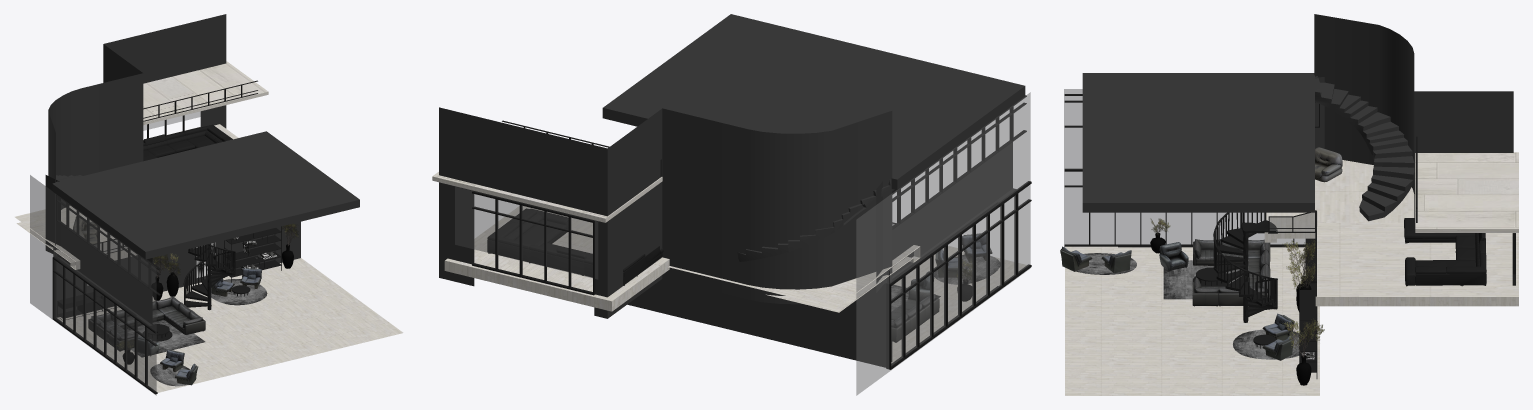
File: interior_4.glb
The picture shows the model from 3 angles, left to right: view 1: azimuth 30°, elevation 25°; view 2: azimuth 150°, elevation 25°; view 3: azimuth 270°, elevation 25°; orthographic projection. The views are drawn at different scales.
Parts seen in each view (by area): view 1: Cube.008, Plane, Plane.026, Plane.007, Cube.009, Plane.002, Plane.001, Cube, node_0.001_Material.013_0, node_0_Material.003_0, node_0_S-Remesh, Plane.003 (+11 smaller); view 2: Plane.007, Cube.008, Plane.026, Plane.001, Plane.029, Plane.002, Cube.006, Cube, node_0_S-Remesh, Plane.003, Plane, Cube.012 (+6 smaller); view 3: Cube.008, Plane, Plane.007, Cube.006, Cube.009, Plane.026, node_0.002_Material.002_0, Plane.003, node_0_Material.003_0, node_0_S-Remesh, node_0.001_Material.013_0, Cube.014 (+13 smaller).
Boxes of the visible parts, bbox=[...] form: Cube.008: bbox=[52, 131, 359, 259]; Plane: bbox=[57, 258, 403, 392]; Plane.026: bbox=[30, 175, 156, 395]; Plane.007: bbox=[48, 14, 226, 256]; Cube.009: bbox=[143, 61, 268, 125]; Plane.002: bbox=[45, 175, 152, 325]; Plane.001: bbox=[53, 221, 300, 317]; Cube: bbox=[52, 257, 157, 394]; node_0.001_Material.013_0: bbox=[88, 296, 205, 351]; node_0_Material.003_0: bbox=[183, 243, 235, 310]; node_0_S-Remesh: bbox=[143, 124, 232, 161]; Plane.003: bbox=[15, 206, 137, 269]; Plane.007: bbox=[439, 107, 892, 318]; Cube.008: bbox=[602, 14, 1025, 189]; Plane.026: bbox=[856, 92, 1030, 395]; Plane.001: bbox=[627, 270, 889, 367]; Plane.029: bbox=[455, 186, 598, 279]; Plane.002: bbox=[876, 142, 1016, 292]; Cube.006: bbox=[444, 206, 669, 311]; Cube: bbox=[887, 181, 1031, 369]; node_0_S-Remesh: bbox=[487, 208, 663, 285]; Plane.003: bbox=[668, 245, 920, 312]; Plane: bbox=[891, 246, 1026, 363]; Cube.012: bbox=[892, 95, 1026, 229]; Cube.008: bbox=[1082, 73, 1314, 212]; Plane: bbox=[1065, 246, 1319, 395]; Plane.007: bbox=[1314, 14, 1513, 217]; Cube.006: bbox=[1315, 223, 1518, 306]; Cube.009: bbox=[1415, 152, 1518, 232]; Plane.026: bbox=[1064, 89, 1305, 246]; node_0.002_Material.002_0: bbox=[1315, 76, 1414, 221]; Plane.003: bbox=[1264, 160, 1414, 242]; node_0_Material.003_0: bbox=[1213, 212, 1277, 322]; node_0_S-Remesh: bbox=[1404, 218, 1486, 286]; node_0.001_Material.013_0: bbox=[1192, 239, 1270, 306]; Cube.014: bbox=[1299, 283, 1317, 378].
Bounding box in the file's own units: 14.36 × 10.09 × 17.87.
16 materials, 10 textured.
